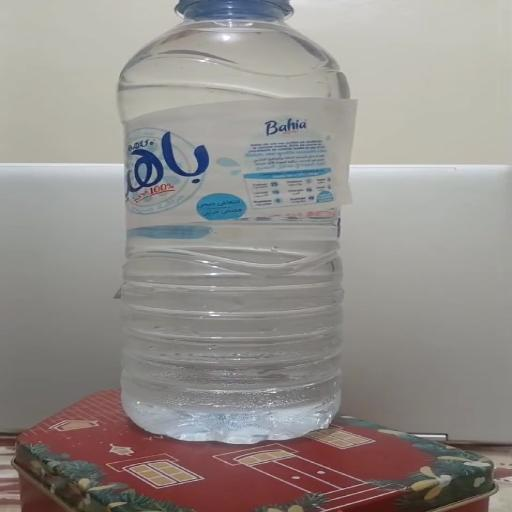bouteille conformite: (141, 17, 360, 462)
